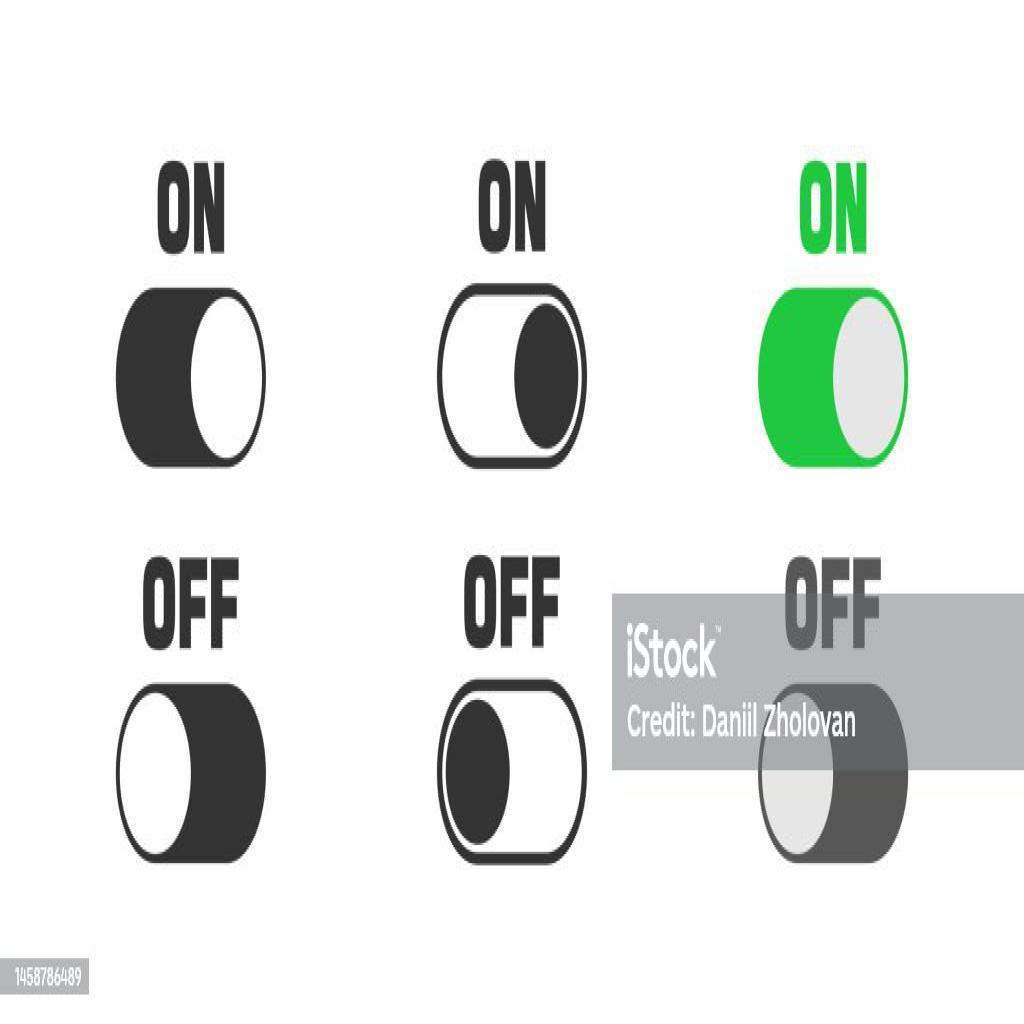switch: (114, 678, 276, 874), (439, 675, 594, 867), (755, 288, 914, 471), (440, 282, 588, 467), (118, 289, 268, 469)
